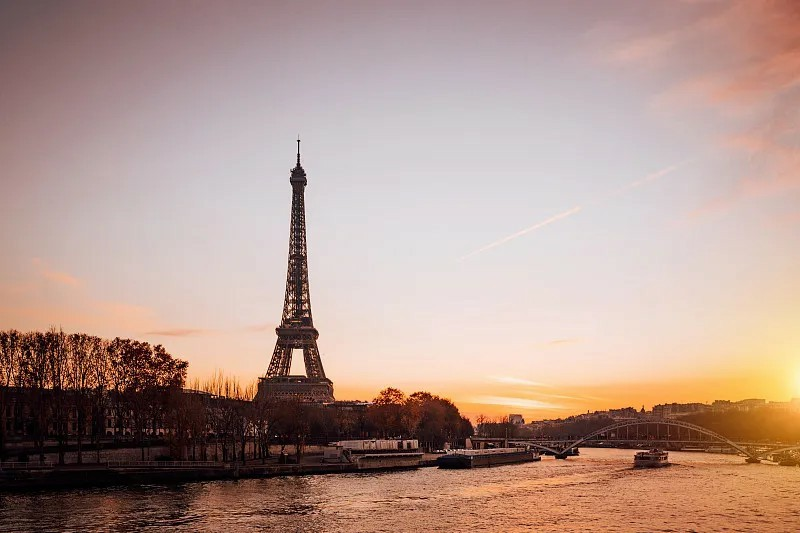Eiffel: (252, 134, 337, 404)
